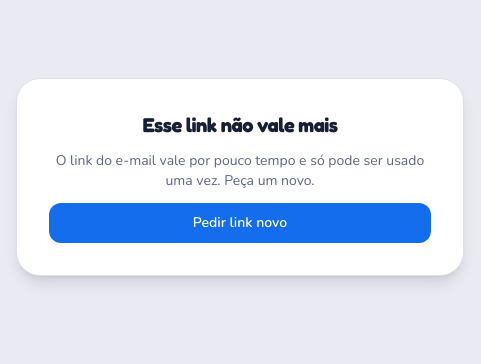
it: RedefinirSenha › link vencido: oferece pedir outro
Click the button "Pedir link novo" at point(240, 223), box [49, 203, 431, 243]
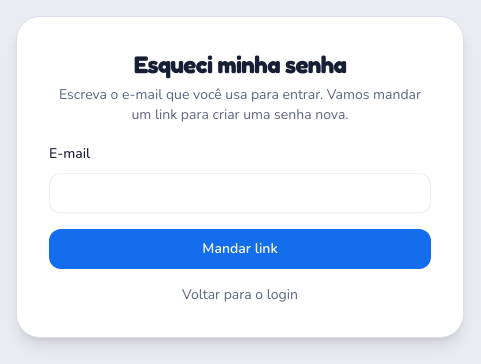
Expected: the heading "Esqueci minha senha" is shown, [134, 50, 346, 79]
